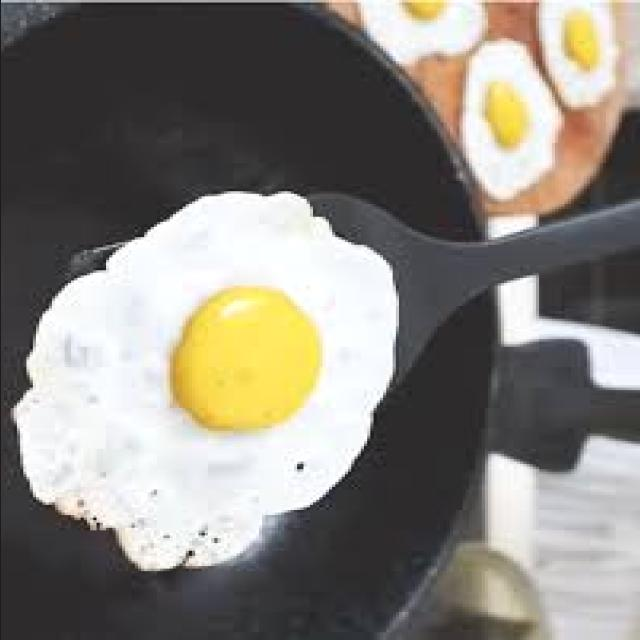telur ceplok: (6, 189, 398, 571)
